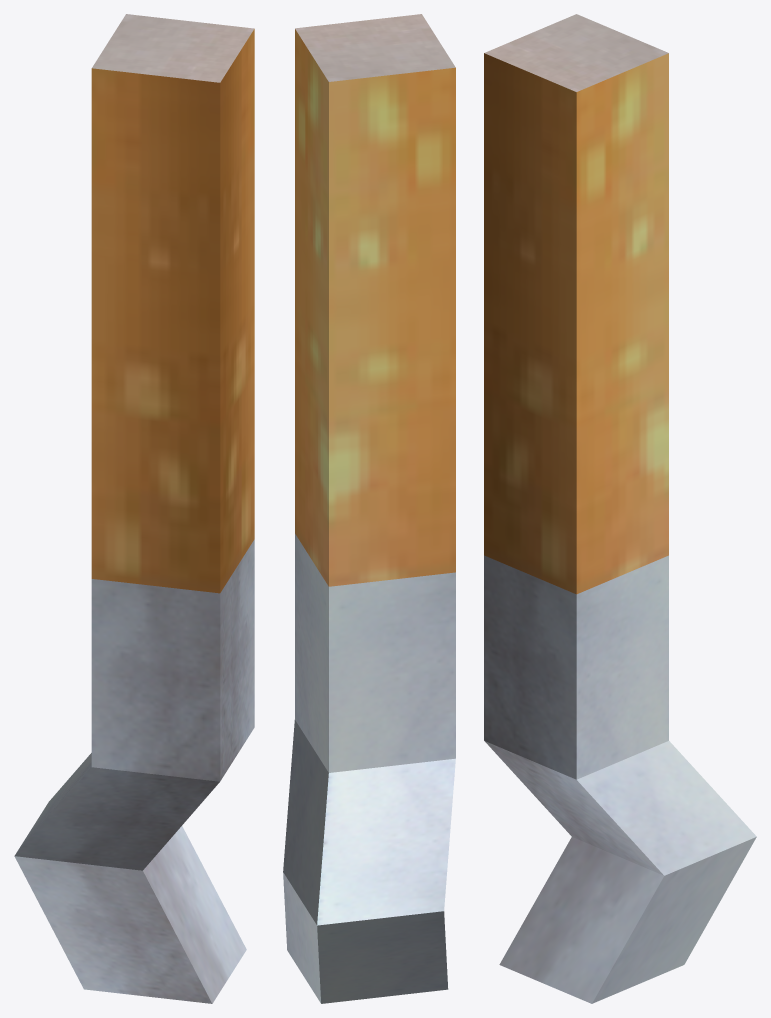
File: CigaretteSnuffed.obj
The picture shows the model from 3 angles, left to right: view 1: azimuth 30°, elevation 25°; view 2: azimuth 150°, elevation 25°; view 3: azimuth 270°, elevation 25°; orthographic projection.
Parts seen in each view (by area): view 1: CigaretteSmuged; view 2: CigaretteSmuged; view 3: CigaretteSmuged.
Part boxes in pixels (box(x1,y1,x2,y2)): CigaretteSmuged: box(14, 14, 254, 1003); CigaretteSmuged: box(283, 14, 455, 1003); CigaretteSmuged: box(484, 14, 756, 1003).
Size of the model in its own units: 0.1257 by 0.5692 by 0.1544.
